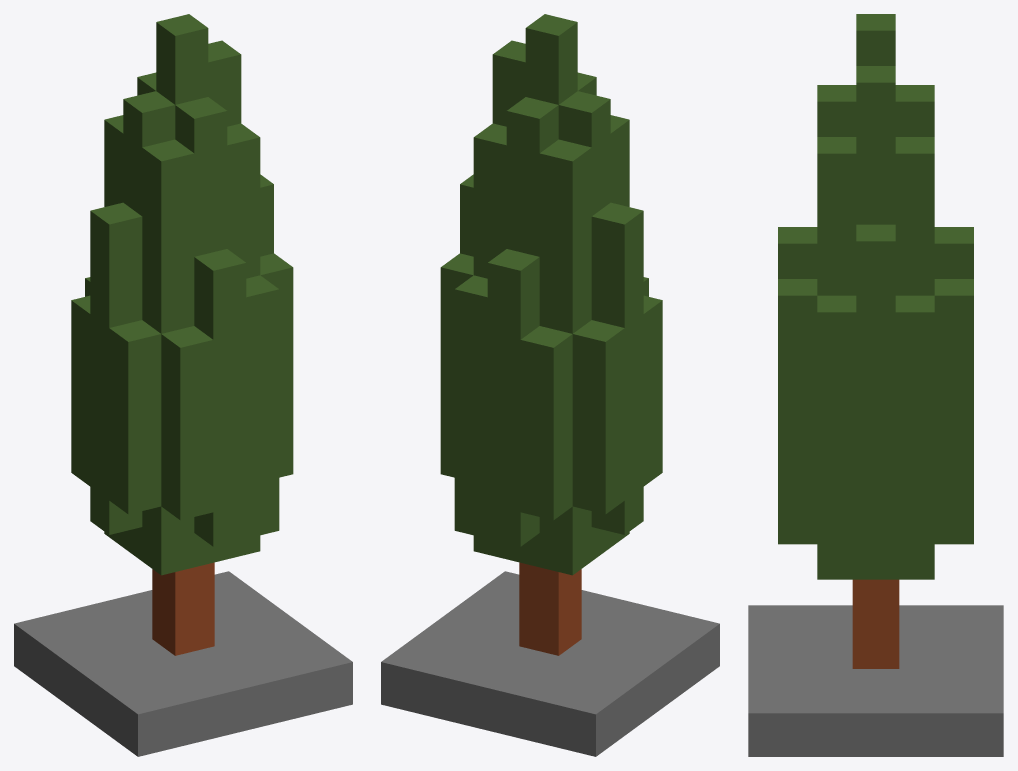
The model's file is tree2.fbx.
3 renders of one model, left to right at view 1: azimuth 30°, elevation 25°; view 2: azimuth 150°, elevation 25°; view 3: azimuth 270°, elevation 25°, orthographic. The views are drawn at different scales.
Parts seen in each view (by area): view 1: Cube.002; view 2: Cube.002; view 3: Cube.002.
Part boxes in pixels (x1,y1,x2,y2): Cube.002: (14,14,352,756); Cube.002: (381,14,719,756); Cube.002: (748,14,1003,756).
Bounding box in the file's own units: 200 × 588 × 200.
